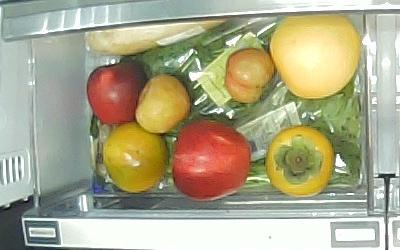apple: (172, 120, 251, 201), (87, 63, 149, 125)
grapefruit: (270, 14, 360, 99)
persimmon: (265, 126, 334, 198), (104, 122, 170, 194)
prune: (137, 77, 192, 136), (225, 48, 276, 104)
